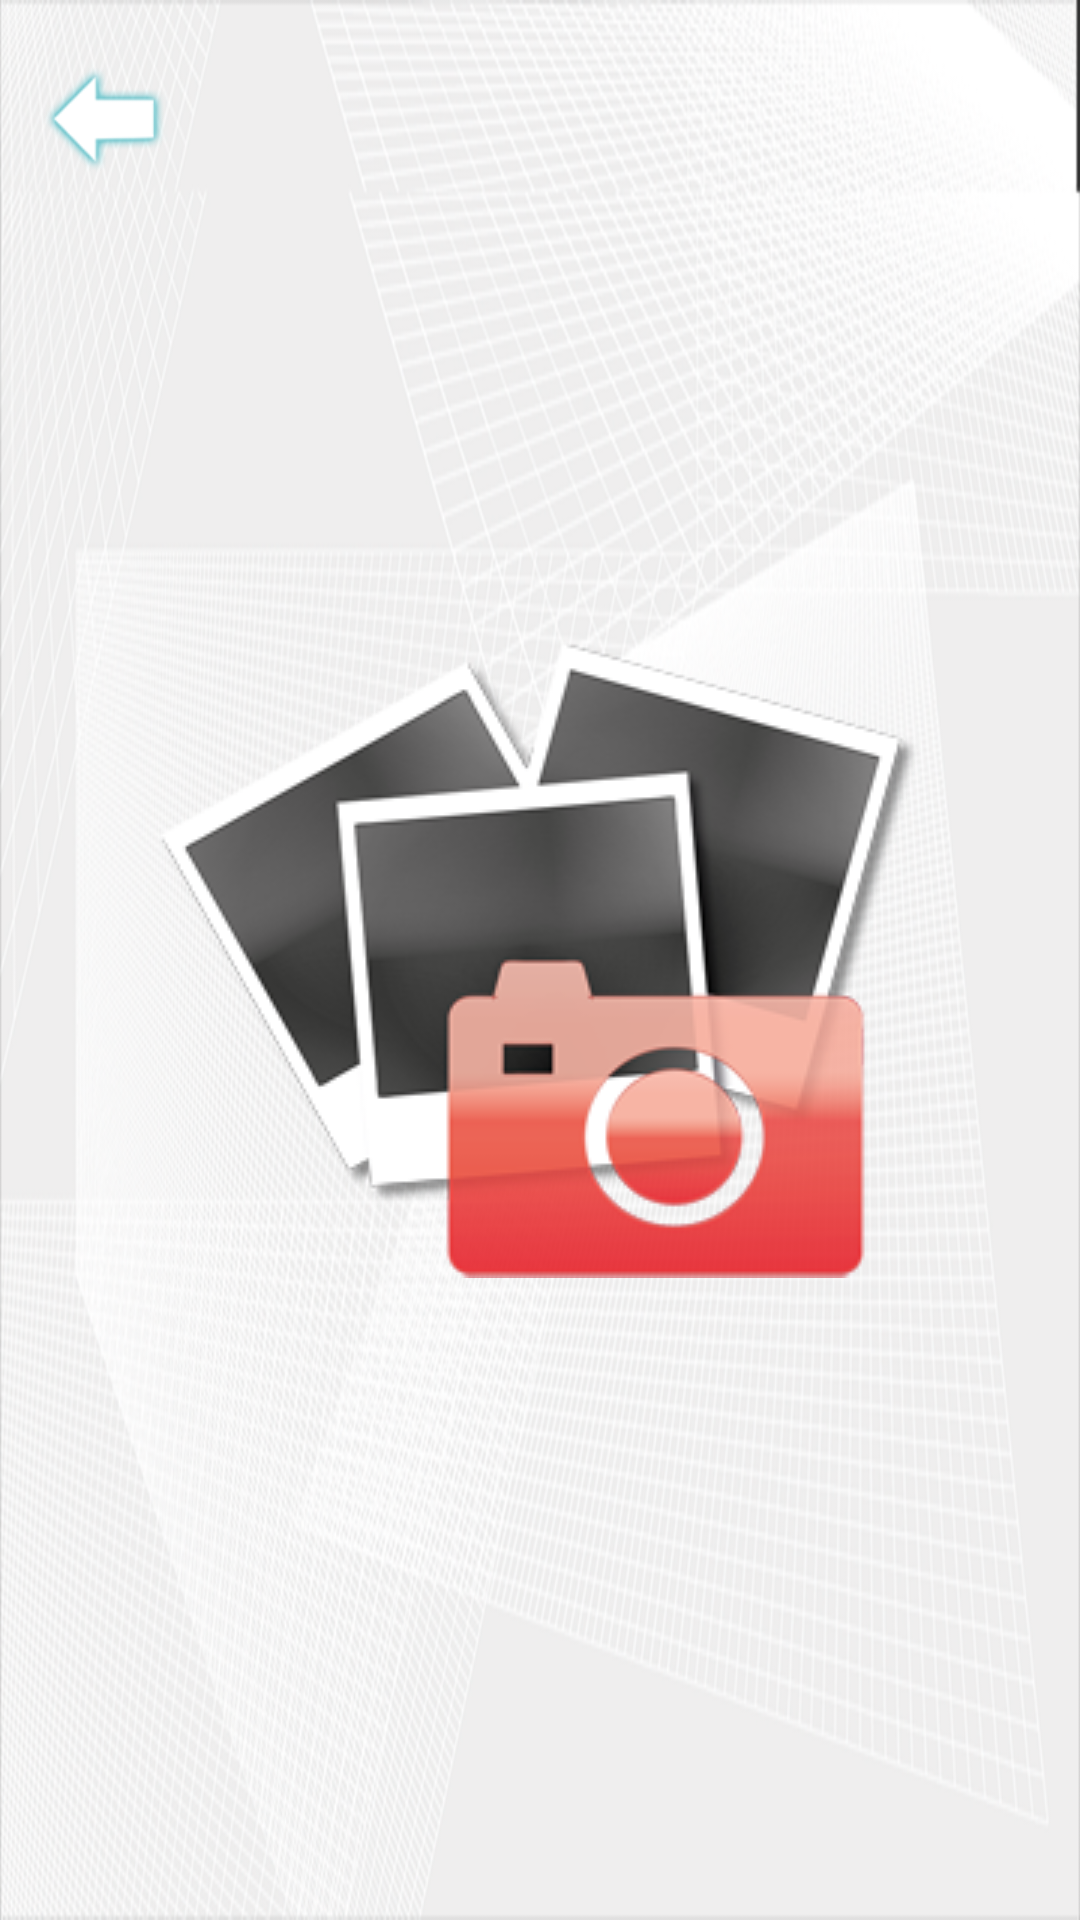

Named icons in this screenshot (1080px×1920px) and their centers, point (x, y):
top return: point (105, 119)
